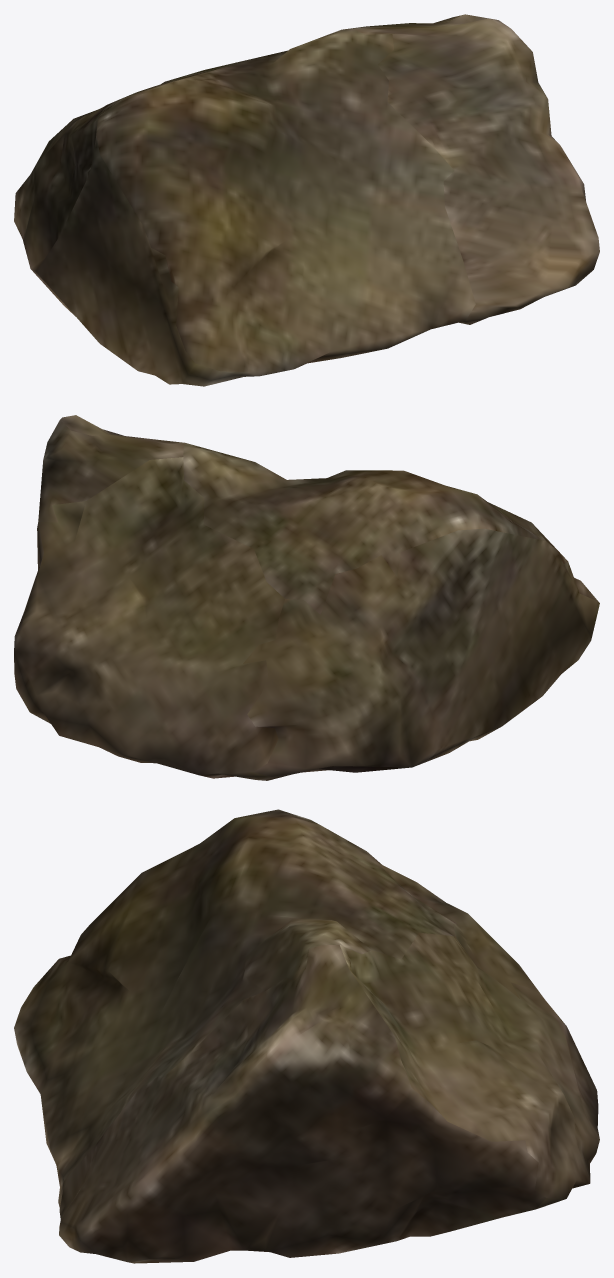
The model's file is rocks.glb.
3 views of the same model, one above another, from view 1: azimuth 30°, elevation 25°; view 2: azimuth 150°, elevation 25°; view 3: azimuth 270°, elevation 25° (orthographic). The views are drawn at different scales.
Parts seen in each view (by area): view 1: rock_moss_set_01_rock03; view 2: rock_moss_set_01_rock03; view 3: rock_moss_set_01_rock03.
Boxes of the visible parts, x1,y1,x2,y2 form: rock_moss_set_01_rock03: (14,14,599,386); rock_moss_set_01_rock03: (14,415,599,780); rock_moss_set_01_rock03: (14,809,599,1263).
Bounding box in the file's own units: 2.11 × 1.09 × 2.08.
1 material, 1 textured.
